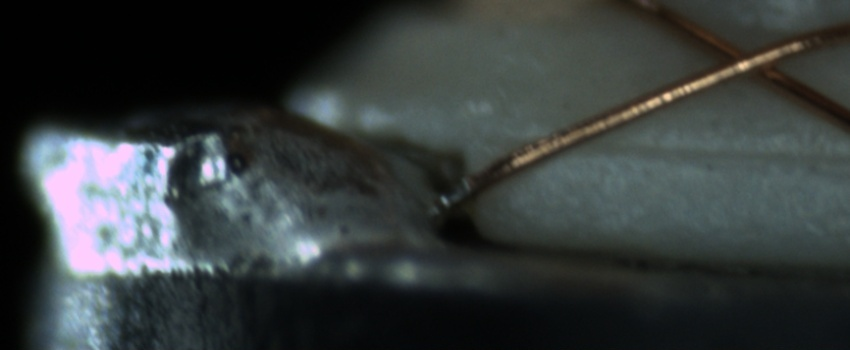CL: (693, 28, 815, 90)
DL: (539, 123, 850, 187)
TS: (442, 180, 474, 211)
